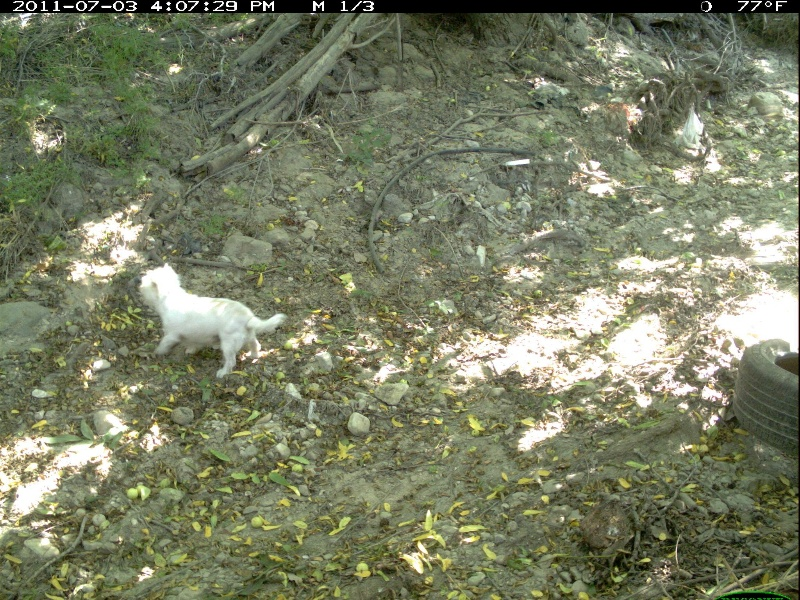dog: (136, 260, 293, 382)
